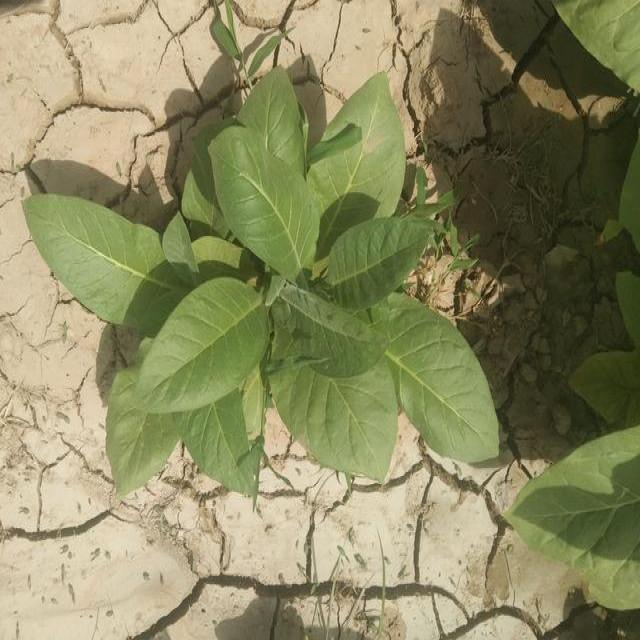crop: (22, 194, 262, 493), (220, 88, 430, 317), (266, 272, 503, 474)
